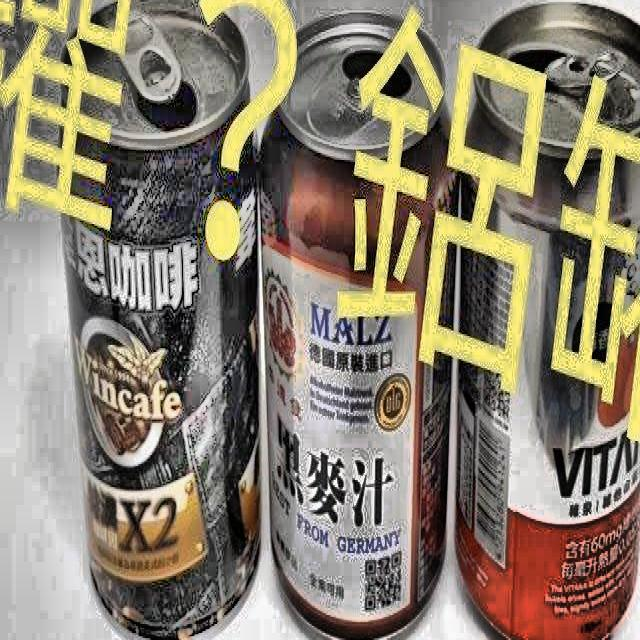metal: (57, 0, 269, 640), (258, 0, 458, 640), (451, 0, 640, 640)
